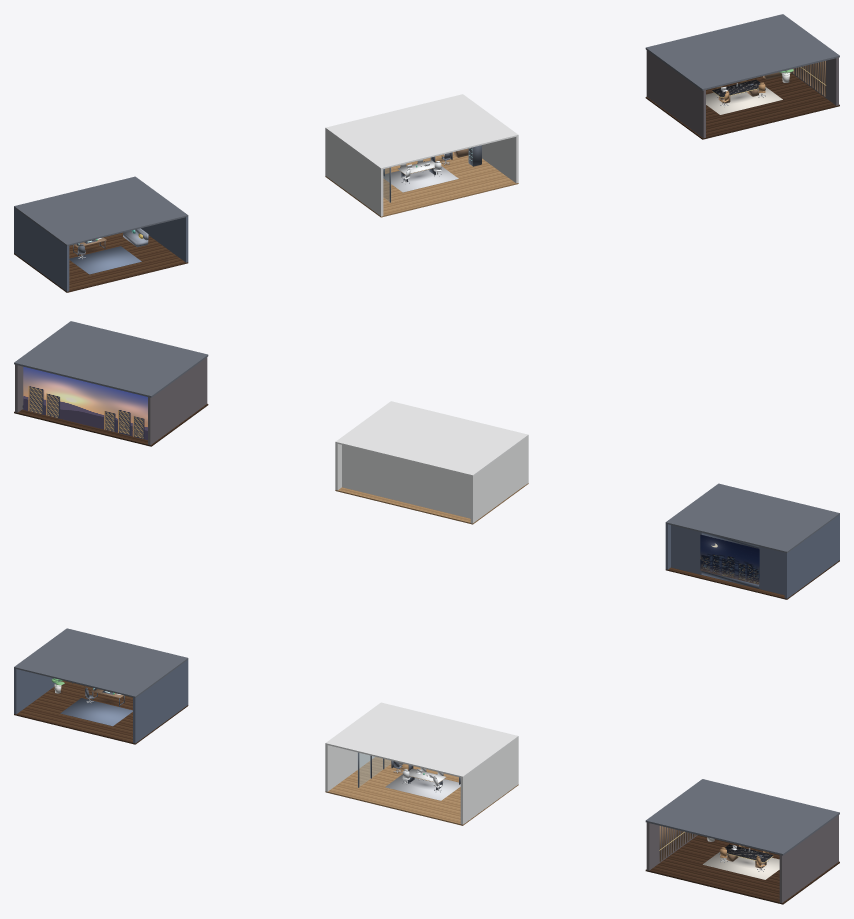
File: wa_modern_spaces.glb
3 views of the same model, one above another, from view 1: azimuth 30°, elevation 25°; view 2: azimuth 150°, elevation 25°; view 3: azimuth 330°, elevation 25° (orthographic).
Visible parts, largest first — view 1: Merged_CeilDark, C_Ceiling, Merged_WallOffice, Merged_WallExec, Merged_WallNight, D_Floor, C_Floor, B_Floor, B_Rug, Merged_Walnut, D_Rug, C_Rug (+1 smaller); view 2: Merged_CeilDark, Merged_WallOffice, C_Ceiling, Merged_WallNight, D_SunsetView, Merged_WallExec, B_NightView, D_Floor, C_Floor, B_Floor; view 3: Merged_CeilDark, C_Ceiling, Merged_WallOffice, C_Floor, D_Floor, Merged_WallExec, Merged_WallNight, B_Floor, B_Rug, D_Rug, C_Rug, Merged_Walnut (+1 smaller).
Part boxes in pixels (left/top/right/bottom): Merged_CeilDark: left=14, top=14, right=839, bottom=246; C_Ceiling: left=325, top=94, right=518, bottom=169; Merged_WallOffice: left=325, top=129, right=518, bottom=216; Merged_WallExec: left=646, top=50, right=838, bottom=138; Merged_WallNight: left=14, top=208, right=188, bottom=291; D_Floor: left=645, top=72, right=839, bottom=139; C_Floor: left=325, top=152, right=518, bottom=217; B_Floor: left=14, top=232, right=188, bottom=292; B_Rug: left=69, top=246, right=141, bottom=274; Merged_Walnut: left=74, top=61, right=825, bottom=247; D_Rug: left=706, top=87, right=782, bottom=114; C_Rug: left=383, top=162, right=458, bottom=192; Merged_CeilDark: left=14, top=321, right=839, bottom=552; Merged_WallOffice: left=335, top=436, right=528, bottom=523; C_Ceiling: left=335, top=401, right=528, bottom=476; Merged_WallNight: left=665, top=514, right=839, bottom=598; D_SunsetView: left=23, top=366, right=147, bottom=439; Merged_WallExec: left=15, top=357, right=207, bottom=445; B_NightView: left=700, top=534, right=759, bottom=584; D_Floor: left=14, top=404, right=208, bottom=446; C_Floor: left=335, top=483, right=528, bottom=524; B_Floor: left=665, top=560, right=839, bottom=599; Merged_CeilDark: left=14, top=628, right=839, bottom=855; C_Ceiling: left=325, top=702, right=518, bottom=777; Merged_WallOffice: left=325, top=737, right=518, bottom=824; C_Floor: left=325, top=757, right=518, bottom=825; D_Floor: left=645, top=835, right=839, bottom=904; Merged_WallExec: left=646, top=815, right=838, bottom=902; Merged_WallNight: left=14, top=660, right=188, bottom=743; B_Floor: left=14, top=680, right=188, bottom=744; B_Rug: left=60, top=698, right=132, bottom=726; D_Rug: left=703, top=852, right=779, bottom=879; C_Rug: left=385, top=770, right=460, bottom=800; Merged_Walnut: left=91, top=689, right=766, bottom=868.
Bounding box in the file's own units: 67.3 × 4.22 × 8.6.
Materials: 44 (10 with a texture image).
